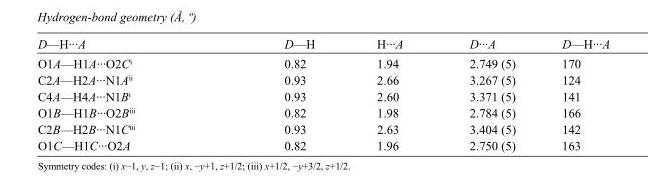table: (36, 36, 609, 152)
table column: (36, 36, 209, 152), (209, 36, 345, 152), (435, 36, 538, 152), (345, 36, 435, 152), (538, 36, 609, 152)
table row: (36, 53, 609, 71), (36, 36, 609, 53), (36, 71, 609, 88), (36, 120, 609, 137), (36, 88, 609, 104), (36, 104, 609, 120), (36, 137, 609, 152)
